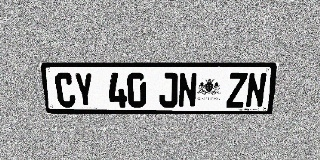0: (127, 73, 146, 107)
4: (107, 73, 127, 107)
C: (54, 73, 76, 107)
J: (159, 73, 178, 107)
N: (245, 73, 267, 108), (178, 73, 197, 108)
Y: (73, 73, 95, 107)
Z: (226, 73, 248, 108)
